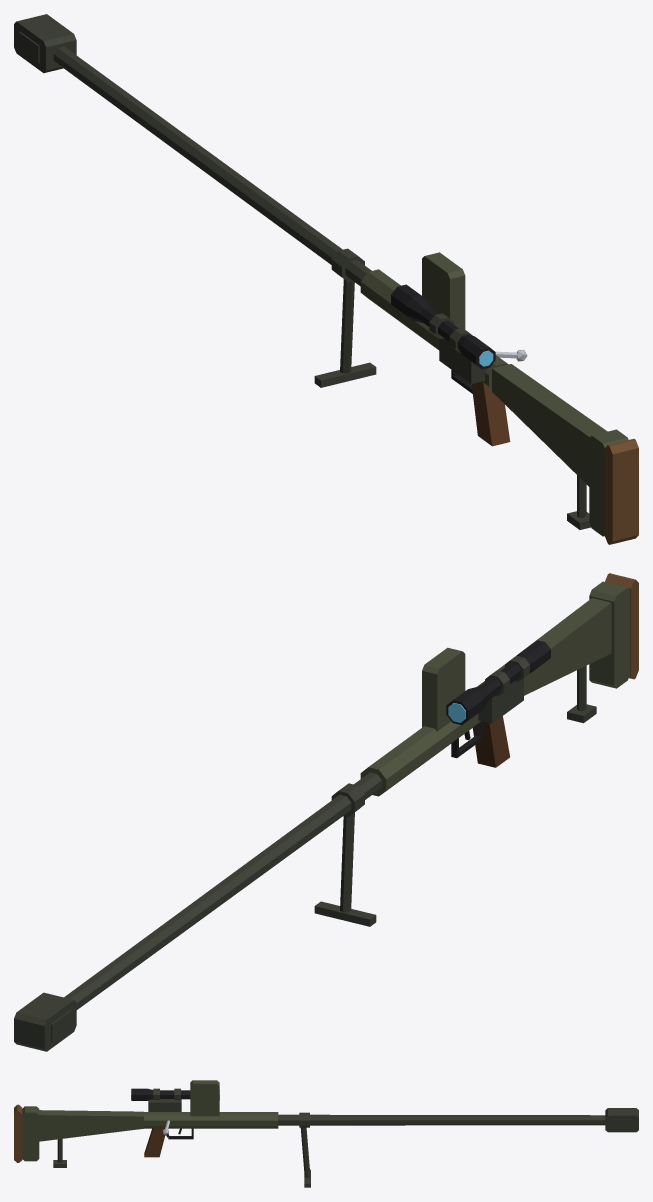
File: Titan.glb
The picture shows the model from 3 angles, top to bottom: view 1: azimuth 30°, elevation 25°; view 2: azimuth 150°, elevation 25°; view 3: azimuth 270°, elevation 25°; orthographic projection. The views are drawn at different scales.
Visible parts, largest first — view 1: Stock, Barrel, Pad, Bipod, Muzzle, Magazine, Scope, Body, Grip, Mount; view 2: Stock, Barrel, Bipod, Body, Muzzle, Magazine, Scope, Mount, Grip, Pad; view 3: Stock, Barrel, Body, Magazine, Muzzle, Bipod, Mount, Scope, Pad, Grip.
Boxes of the visible parts, x1,y1,x2,y2 form: Stock: (492, 364, 628, 536); Barrel: (53, 46, 371, 286); Pad: (604, 439, 638, 544); Bipod: (314, 248, 590, 529); Muzzle: (14, 14, 76, 73); Magazine: (422, 252, 465, 329); Scope: (391, 284, 495, 369); Body: (360, 269, 508, 388); Grip: (471, 381, 510, 446); Mount: (429, 313, 487, 383); Stock: (497, 581, 630, 695); Barrel: (64, 772, 381, 1009); Bipod: (314, 665, 596, 926); Body: (360, 713, 481, 796); Muzzle: (14, 992, 76, 1051); Magazine: (422, 647, 465, 731); Scope: (446, 640, 550, 725); Mount: (477, 656, 529, 723); Grip: (472, 716, 509, 767); Pad: (605, 573, 638, 679); Stock: (22, 1106, 143, 1161); Barrel: (278, 1114, 605, 1125); Body: (144, 1112, 278, 1128); Magazine: (190, 1080, 219, 1116); Muzzle: (605, 1108, 638, 1132); Bipod: (53, 1112, 310, 1187); Mount: (148, 1088, 181, 1111); Scope: (131, 1088, 190, 1100); Pad: (14, 1104, 22, 1162); Grip: (144, 1127, 165, 1157).
Bounding box in the file's own units: 0.6043 × 1.3 × 7.45.
